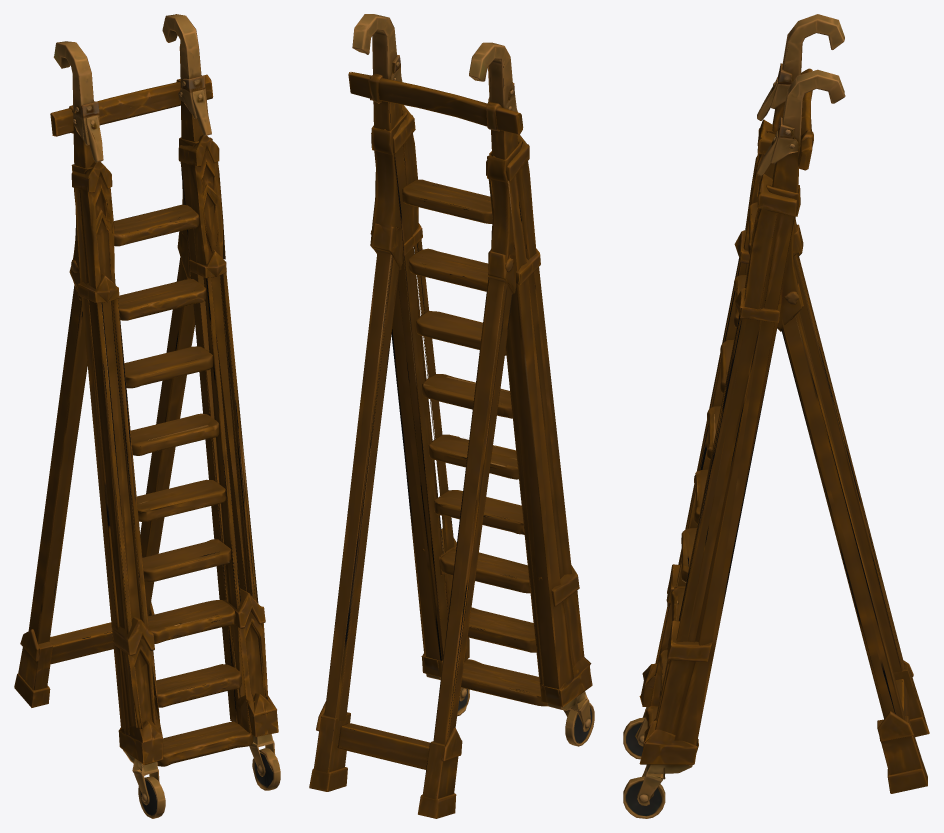
The model's file is escalera.glb.
The picture shows the model from 3 angles, left to right: view 1: azimuth 30°, elevation 25°; view 2: azimuth 150°, elevation 25°; view 3: azimuth 270°, elevation 25°; orthographic projection. The views are drawn at different scales.
Visible parts, largest first — view 1: geometry_0; view 2: geometry_0; view 3: geometry_0.
Boxes of the visible parts, x1,y1,x2,y2 form: geometry_0: (14, 14, 280, 818); geometry_0: (309, 14, 594, 818); geometry_0: (623, 14, 929, 818).
Size of the model in its own units: 0.2197 by 0.9507 by 0.3555.
1 material, 1 textured.
